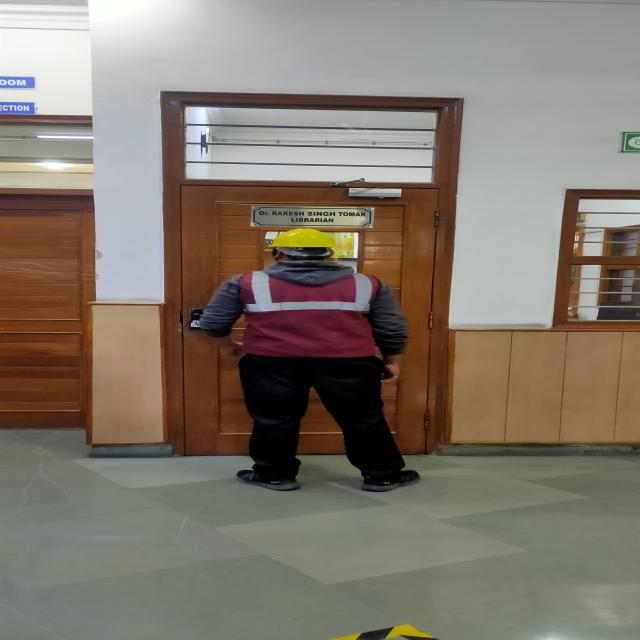safe: (200, 229, 406, 490)
